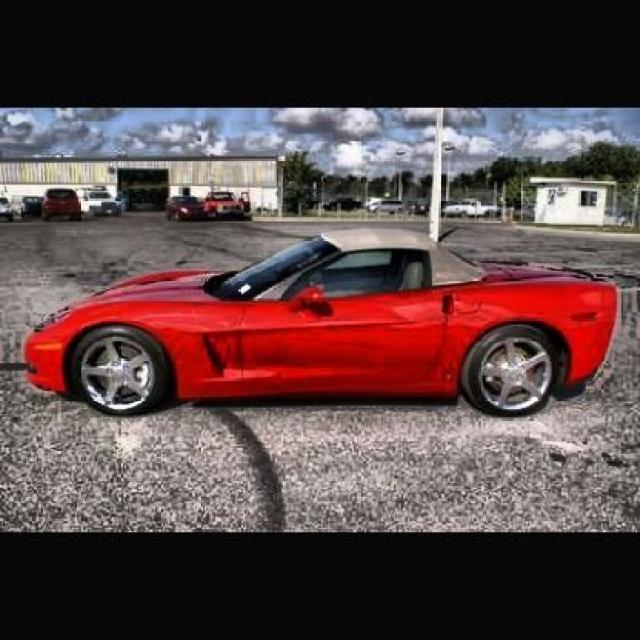red: (14, 228, 640, 426)
